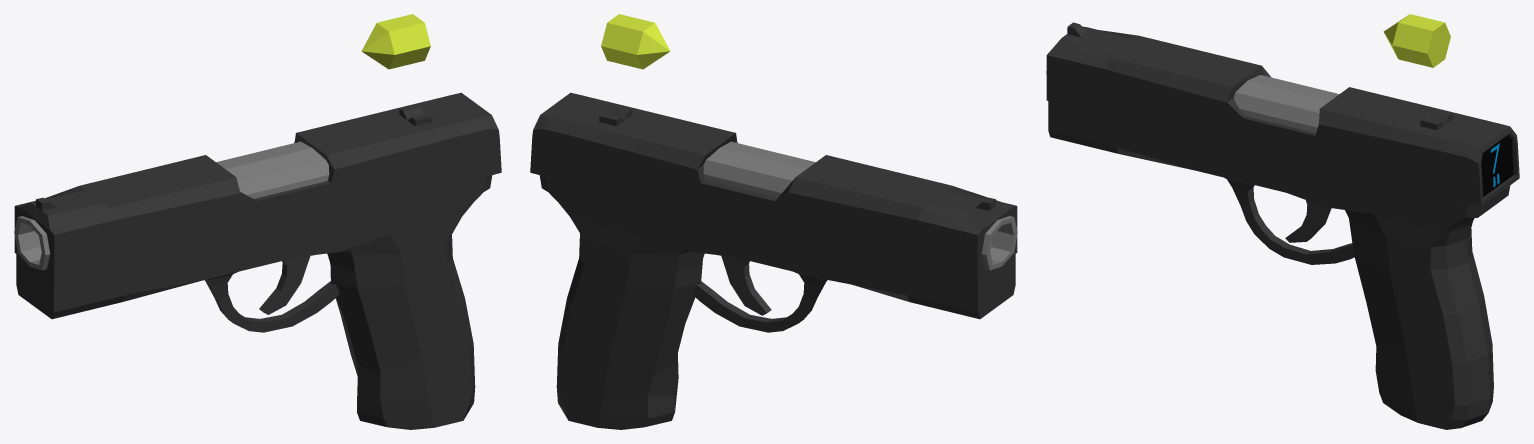
Rendered from Pistol remasterd.fbx.
The picture shows the model from 3 angles, left to right: view 1: azimuth 30°, elevation 25°; view 2: azimuth 150°, elevation 25°; view 3: azimuth 330°, elevation 25°; orthographic projection. The views are drawn at different scales.
Parts seen in each view (by area): view 1: Body, Slide, ShowBullet, Barrel, Trigger; view 2: Body, Slide, ShowBullet, Barrel, Trigger; view 3: Body, Slide, ShowBullet, Trigger.
Boxes of the visible parts, left/top/right/bottom form: Body: left=16, top=141, right=492, bottom=429; Slide: left=14, top=92, right=501, bottom=281; ShowBullet: left=361, top=14, right=430, bottom=69; Barrel: left=14, top=216, right=50, bottom=270; Trigger: left=259, top=255, right=312, bottom=314; Body: left=539, top=141, right=1015, bottom=429; Slide: left=530, top=92, right=1017, bottom=281; ShowBullet: left=601, top=14, right=670, bottom=69; Barrel: left=981, top=216, right=1017, bottom=270; Trigger: left=720, top=255, right=771, bottom=315; Body: left=1048, top=75, right=1510, bottom=429; Slide: left=1046, top=22, right=1519, bottom=206; ShowBullet: left=1383, top=14, right=1450, bottom=67; Trigger: left=1285, top=200, right=1331, bottom=242.
Bounding box in the file's own units: 376 × 314 × 57.29.
